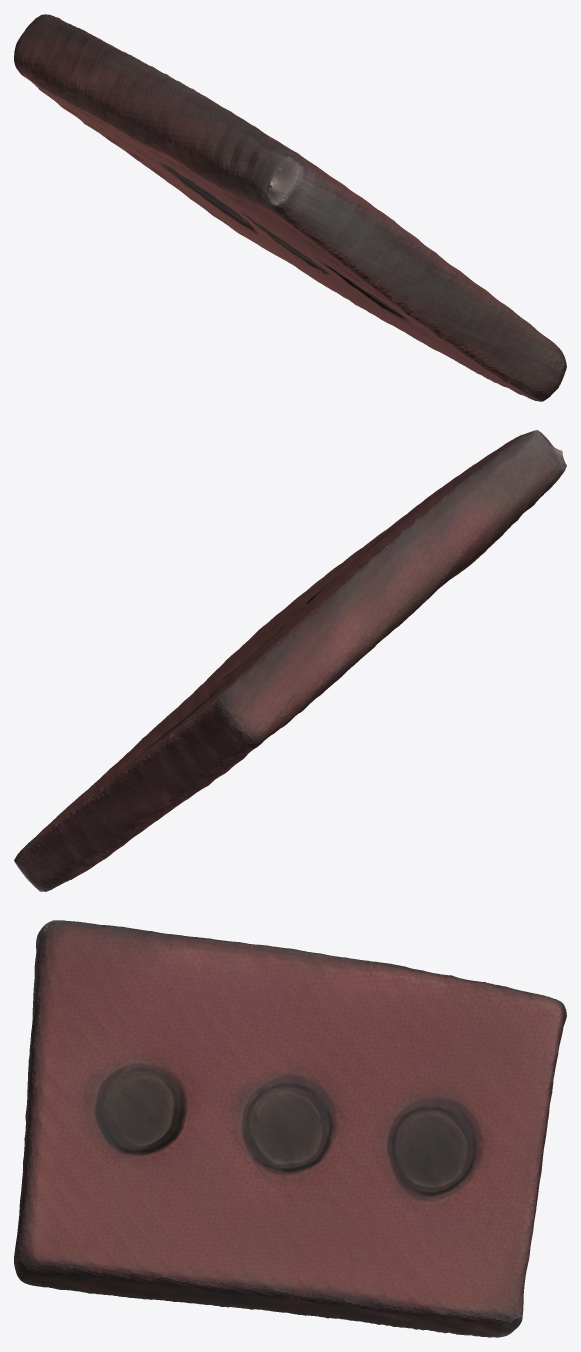
File: instantmesh_recon.glb
3 views of the same model, one above another, from view 1: azimuth 30°, elevation 25°; view 2: azimuth 150°, elevation 25°; view 3: azimuth 270°, elevation 25° (orthographic). The views are drawn at different scales.
Visible parts, largest first — view 1: world; view 2: world; view 3: world.
Part boxes in pixels (bbox=[...]): world: bbox=[14, 14, 566, 401]; world: bbox=[14, 430, 566, 891]; world: bbox=[14, 920, 566, 1337].
Size of the model in its own units: 0.0506 by 0.0555 by 0.0901.
Materials: 1 (1 with a texture image).
